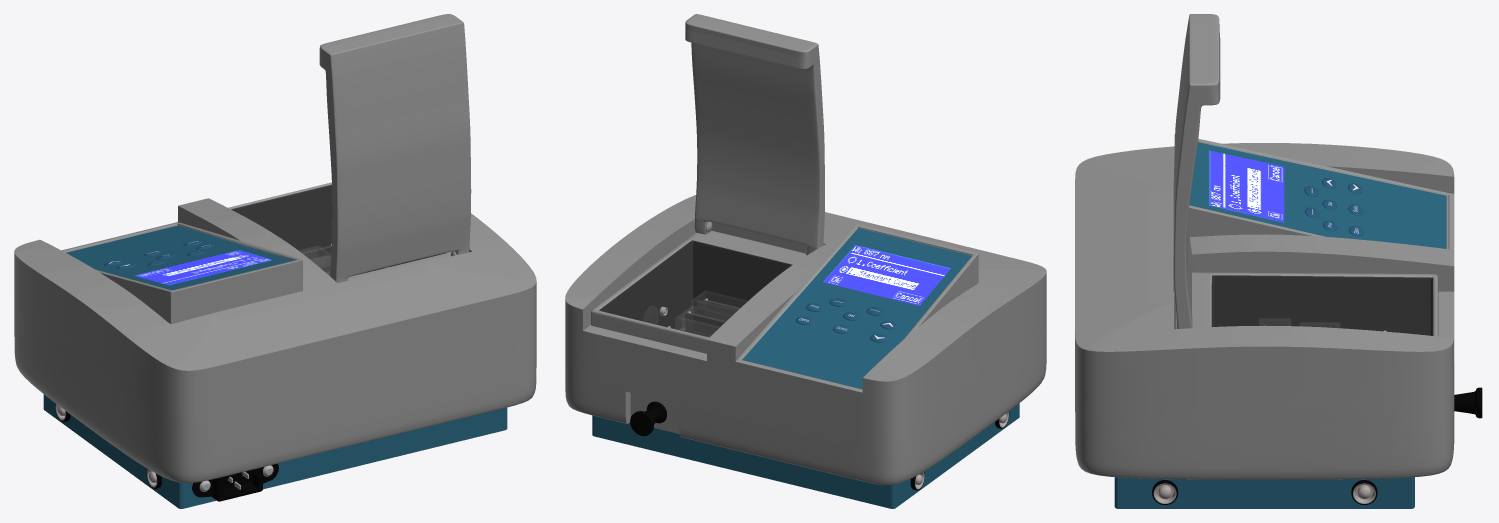
File: spectrophotometer.glb
3 renders of one model, left to right at view 1: azimuth 30°, elevation 25°; view 2: azimuth 150°, elevation 25°; view 3: azimuth 270°, elevation 25°, orthographic. The views are drawn at different scales.
Visible parts, largest first — view 1: MainPartSpectrophotometer_24, object 14, object 10, Cube.004_7, object 16, Cube.003_3; view 2: MainPartSpectrophotometer_24, object 14, object 10, object 16, Cube.004_7, object 19, object 25; view 3: MainPartSpectrophotometer_24, object 10, object 16, Cube.004_7, object 14, object 9, object 25.
Part boxes in pixels (x1=…): MainPartSpectrophotometer_24: x1=14, y1=198, x2=536, y2=482; object 14: x1=319, y1=14, x2=471, y2=282; object 10: x1=61, y1=222, x2=302, y2=324; Cube.004_7: x1=43, y1=394, x2=507, y2=508; object 16: x1=228, y1=182, x2=451, y2=280; Cube.003_3: x1=192, y1=463, x2=278, y2=501; MainPartSpectrophotometer_24: x1=565, y1=195, x2=1046, y2=484; object 14: x1=685, y1=14, x2=824, y2=254; object 10: x1=736, y1=223, x2=978, y2=392; object 16: x1=591, y1=230, x2=806, y2=353; Cube.004_7: x1=592, y1=403, x2=1019, y2=508; object 19: x1=666, y1=299, x2=740, y2=337; object 25: x1=630, y1=401, x2=666, y2=436; MainPartSpectrophotometer_24: x1=1075, y1=143, x2=1454, y2=479; object 10: x1=1174, y1=134, x2=1454, y2=249; object 16: x1=1174, y1=272, x2=1438, y2=336; Cube.004_7: x1=1114, y1=477, x2=1414, y2=508; object 14: x1=1173, y1=14, x2=1220, y2=328; object 9: x1=1152, y1=480, x2=1377, y2=504; object 25: x1=1454, y1=387, x2=1482, y2=418.
Bounding box in the file's own units: 0.47 × 0.4519 × 0.3996.
6 materials, 6 textured.
